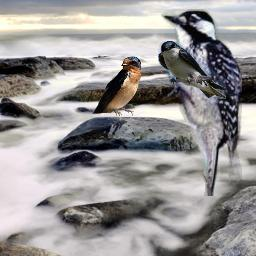Swallow: (158, 41, 226, 99), (92, 56, 141, 120)
Woodpecker: (161, 9, 242, 196)
